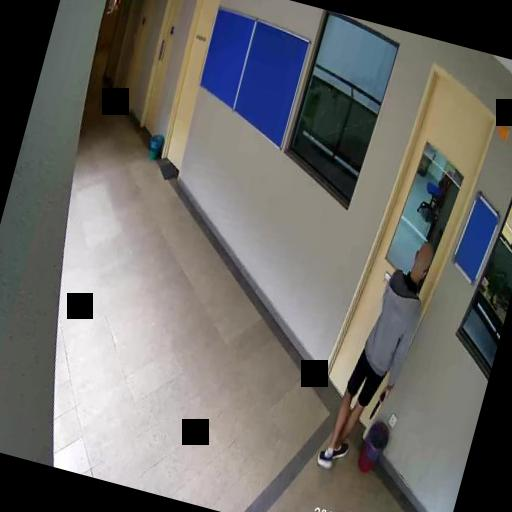Handgun: (368, 384, 388, 420)
